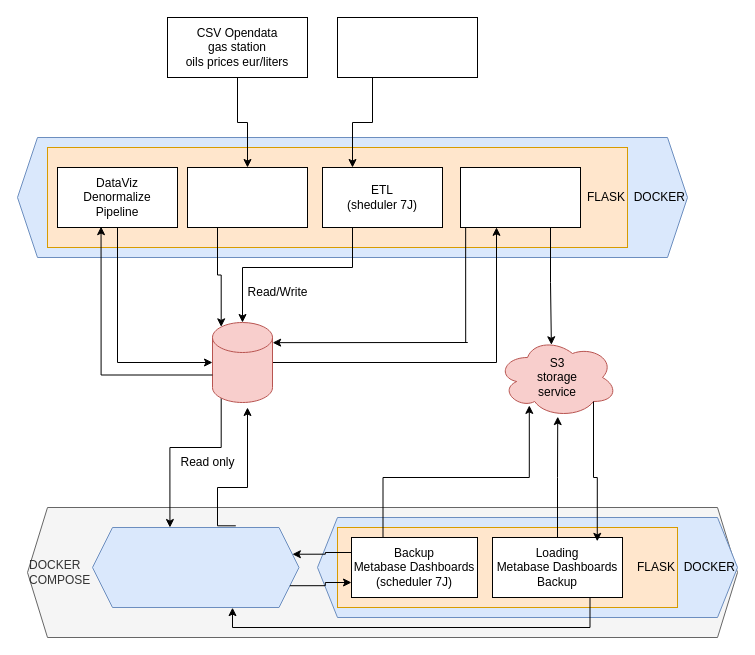
Some shapes in this 755 by 655 pixel diagram are drawn without their labels. The box of each missing label's shape, as (x1, y1, x2, y2) in pixels:
API call Opendata TTC oils prices eur/liters weekly: (336, 16, 478, 78)
API Save Dump MongoDB (scheduler 14J): (460, 166, 580, 228)
DOCKER METABASE: (92, 526, 299, 608)
ETL (scheduler 1J): (186, 166, 308, 228)
MongoDB Cloud: (212, 322, 272, 402)
